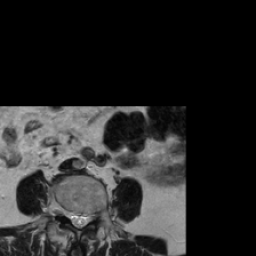CCS_normal: (76, 206, 82, 235)
LFS_normal: (89, 205, 96, 227)
LLS_normal: (82, 206, 88, 230)
RFS_normal: (63, 200, 69, 223)
RLS_normal: (69, 205, 76, 230)
